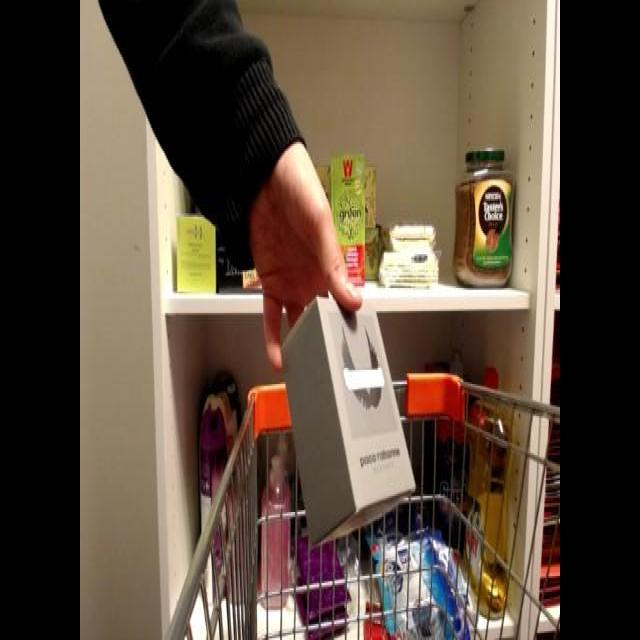Paco Rabanne: (275, 294, 419, 548)
